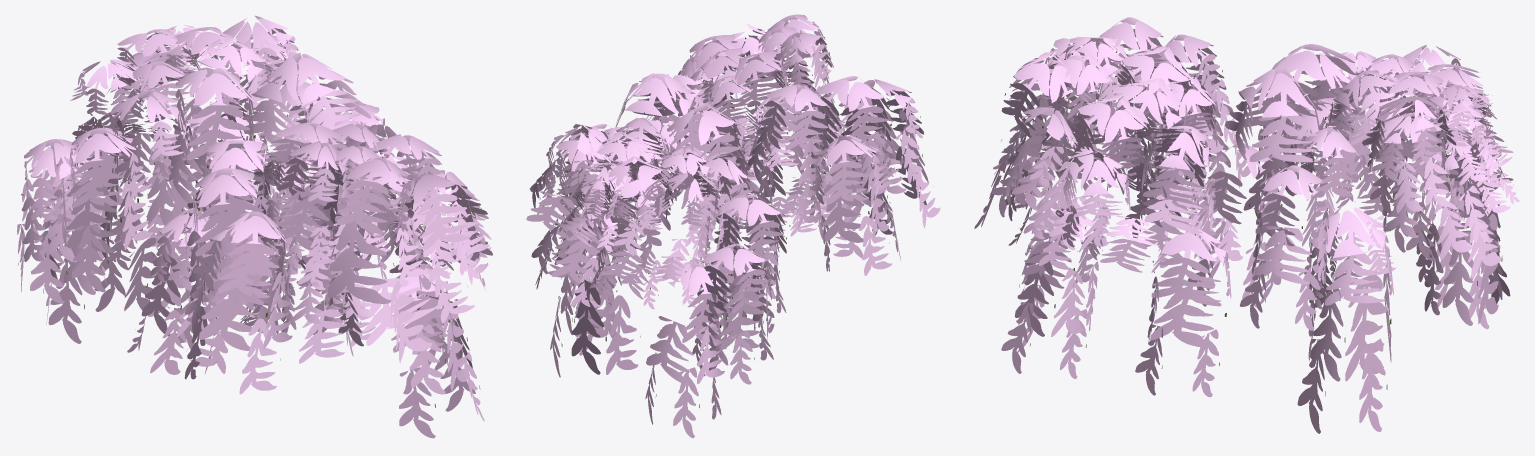
The model's file is willow_P_top_LOD1.fbx.
3 renders of one model, left to right at view 1: azimuth 30°, elevation 25°; view 2: azimuth 150°, elevation 25°; view 3: azimuth 270°, elevation 25°, orthographic. The views are drawn at different scales.
Visible parts, largest first — view 1: Tree_3; view 2: Tree_3; view 3: Tree_3.
Boxes of the visible parts, box(x1,y1,x2,y2) form: Tree_3: box(17, 15, 492, 438); Tree_3: box(526, 14, 940, 438); Tree_3: box(974, 17, 1519, 433).
Bounding box in the file's own units: 3.7 × 3.61 × 5.25.
